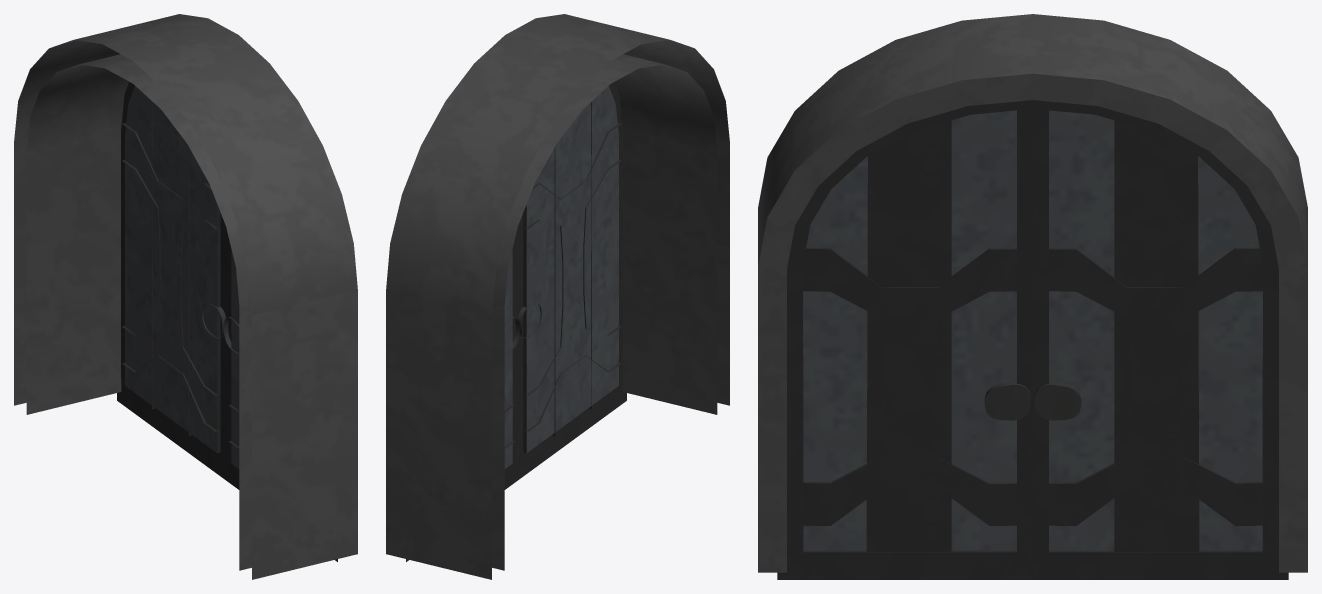
The model's file is IE_DoorClosed.fbx.
3 views of the same model, side by side, from view 1: azimuth 30°, elevation 25°; view 2: azimuth 150°, elevation 25°; view 3: azimuth 270°, elevation 25° (orthographic). The views are drawn at different scales.
Parts seen in each view (by area): view 1: IE_DoorClosed; view 2: IE_DoorClosed; view 3: IE_DoorClosed.
Part boxes in pixels (box(x1,y1,x2,y2)): IE_DoorClosed: box(14, 14, 357, 579); IE_DoorClosed: box(386, 14, 729, 579); IE_DoorClosed: box(758, 14, 1307, 579).
Size of the model in its own units: 68.33 by 274 by 266.
